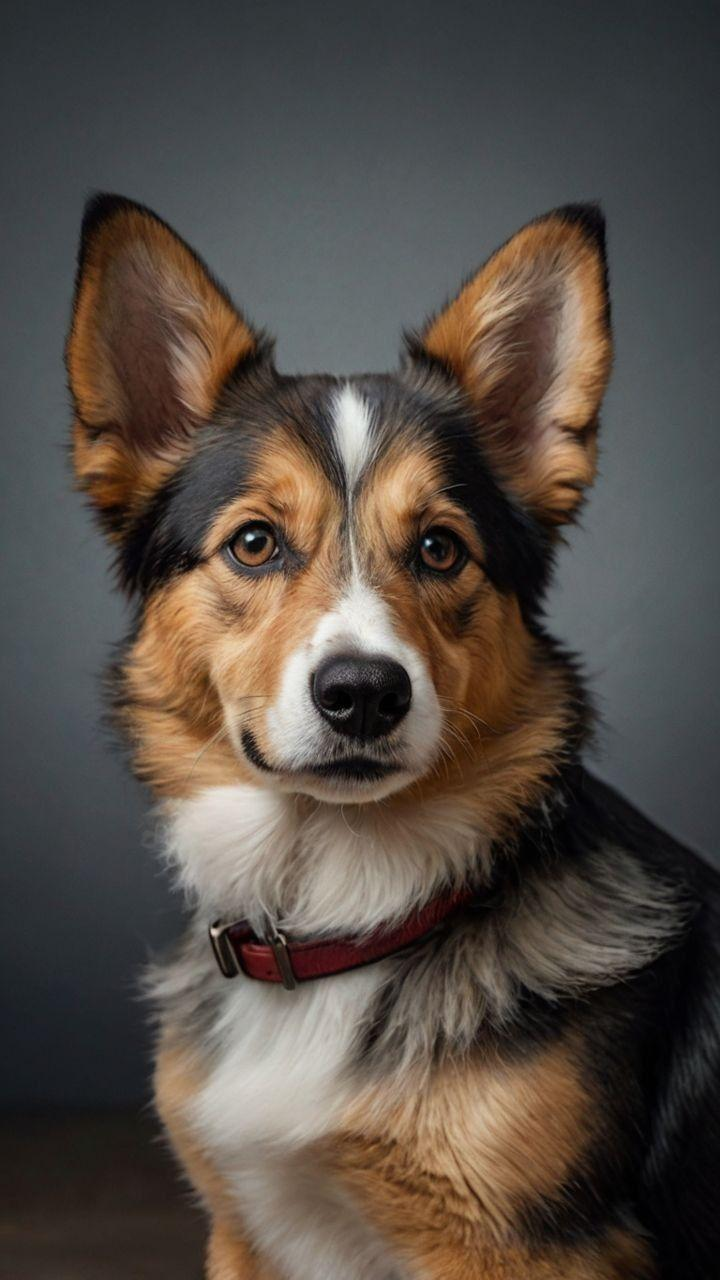adult_dog: (64, 189, 720, 1280)
